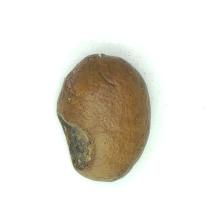NG: (55, 106, 97, 173)
